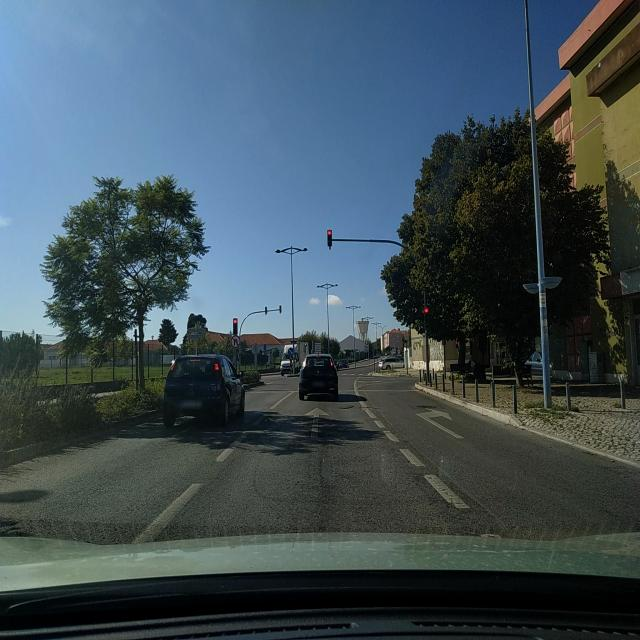car: (162, 352, 246, 428), (298, 352, 340, 400), (378, 357, 406, 370), (338, 359, 349, 369)
